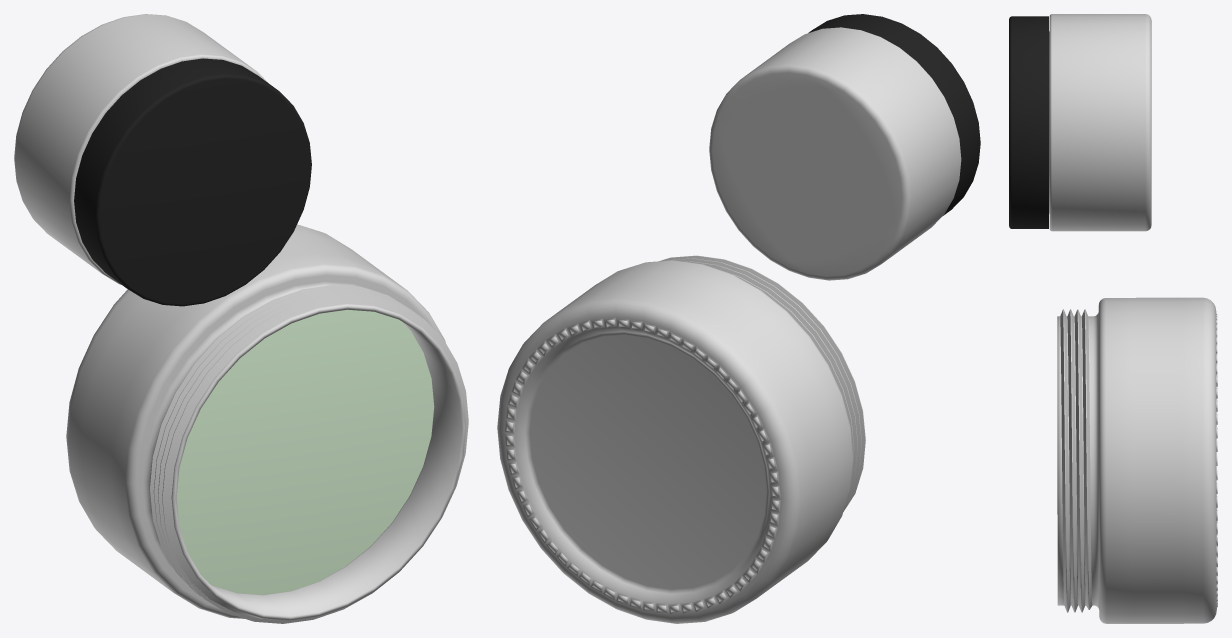
The picture shows the model from 3 angles, left to right: view 1: azimuth 30°, elevation 25°; view 2: azimuth 150°, elevation 25°; view 3: azimuth 270°, elevation 25°; orthographic projection. The views are drawn at different scales.
Visible parts, largest first — view 1: Cylinder.036, Cylinder.037, Cylinder.040, Cylinder.038; view 2: Cylinder.036, Cylinder.038, Cylinder.040; view 3: Cylinder.036, Cylinder.038, Cylinder.040.
Boxes of the visible parts, x1,y1,x2,y2 form: Cylinder.036: (66,224,468,623); Cylinder.037: (176,309,434,595); Cylinder.040: (74,58,311,306); Cylinder.038: (14,14,267,284); Cylinder.036: (497,255,865,623); Cylinder.038: (709,27,961,280); Cylinder.040: (808,14,980,215); Cylinder.036: (1057,297,1217,623); Cylinder.038: (1049,14,1151,231); Cylinder.040: (1009,16,1048,228).
Bounding box in the file's own units: 1.67 × 2.35 × 0.8463.
